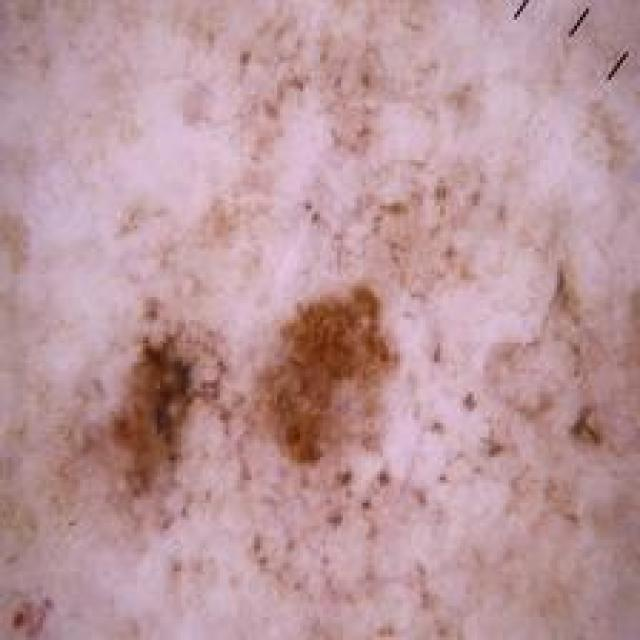Cancer: (72, 292, 429, 507)
